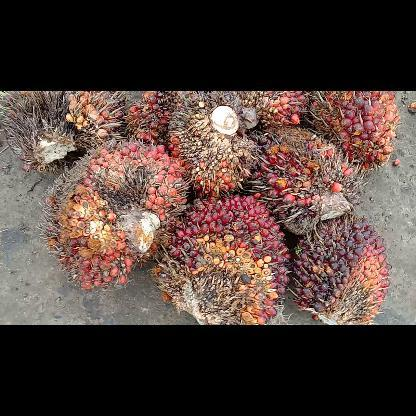TBS masak: (46, 141, 188, 289), (162, 191, 288, 321), (130, 91, 278, 193), (253, 124, 363, 230), (294, 214, 384, 324), (0, 92, 127, 168), (302, 92, 398, 172), (231, 93, 308, 135)
